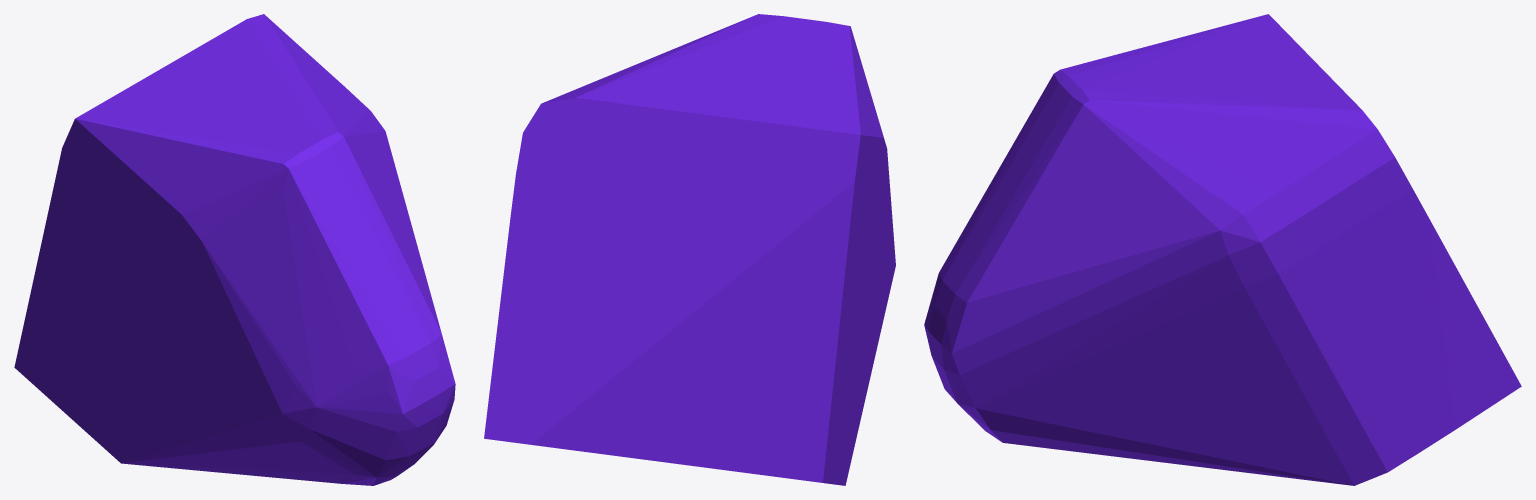
File: converted_Downdraft_Assy_collision_15_7027eaff.obj
3 views of the same model, side by side, from view 1: azimuth 30°, elevation 25°; view 2: azimuth 150°, elevation 25°; view 3: azimuth 270°, elevation 25° (orthographic). The views are drawn at different scales.
Size of the model in its own units: 0.1387 by 0.1542 by 0.2241.
